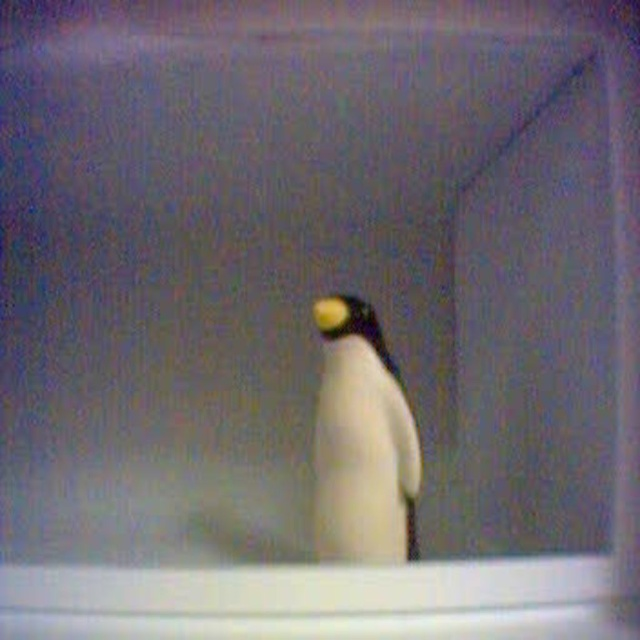Penguin: (311, 291, 422, 562)
